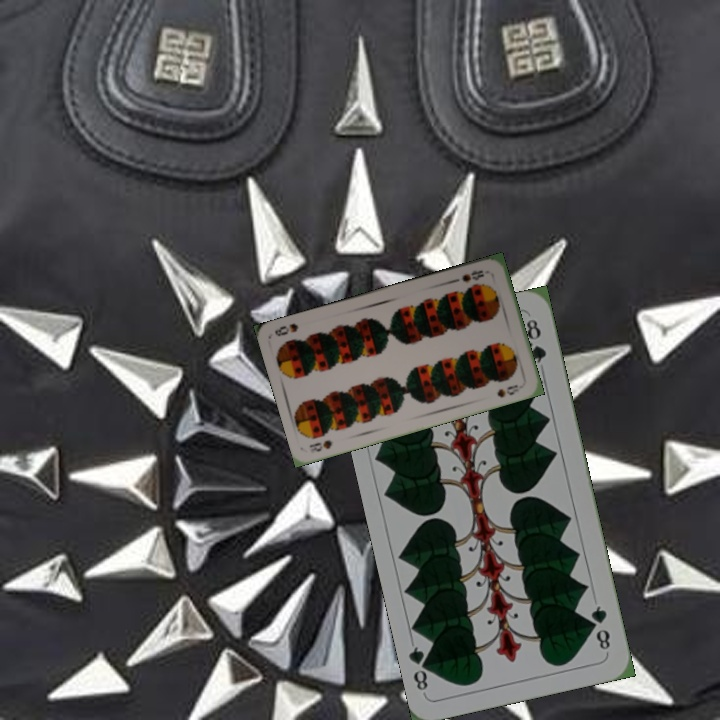G8: (587, 601, 613, 653)
S8: (305, 436, 336, 456), (458, 266, 486, 285)
